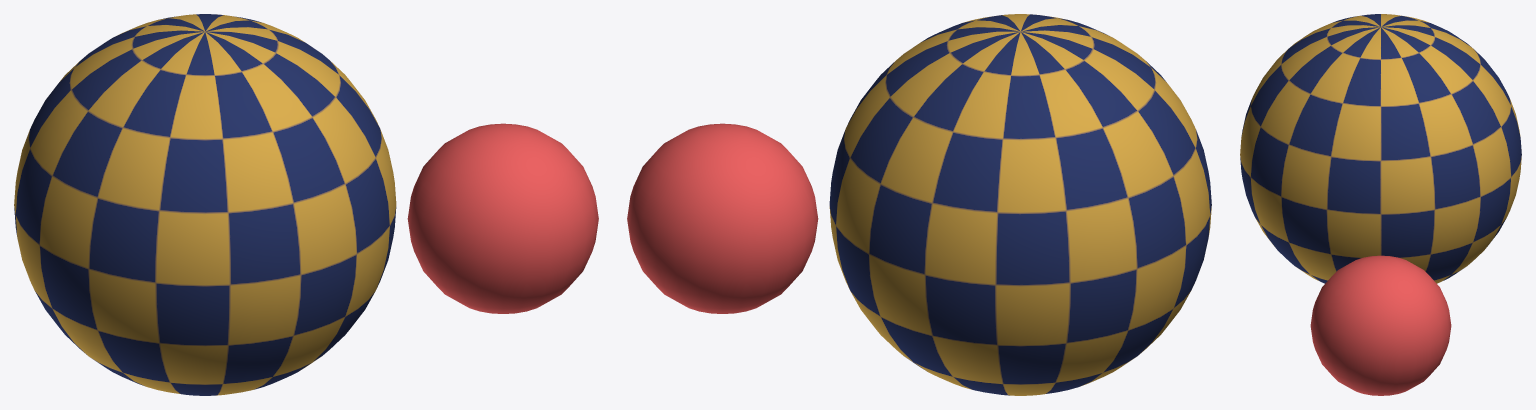
The model's file is fixture-plain.glb.
3 renders of one model, left to right at view 1: azimuth 30°, elevation 25°; view 2: azimuth 150°, elevation 25°; view 3: azimuth 270°, elevation 25°, orthographic. The views are drawn at different scales.
Parts seen in each view (by area): view 1: texturedSphereNode, plainSphereNode; view 2: texturedSphereNode, plainSphereNode; view 3: texturedSphereNode, plainSphereNode.
Part boxes in pixels (x1=…): texturedSphereNode: x1=14, y1=14, x2=396, y2=395; plainSphereNode: x1=407, y1=123, x2=598, y2=313; texturedSphereNode: x1=829, y1=14, x2=1211, y2=395; plainSphereNode: x1=627, y1=123, x2=818, y2=313; texturedSphereNode: x1=1240, y1=14, x2=1521, y2=283; plainSphereNode: x1=1310, y1=255, x2=1451, y2=395.
Size of the model in its own units: 1.65 by 1 by 1.
2 materials, 1 textured.
